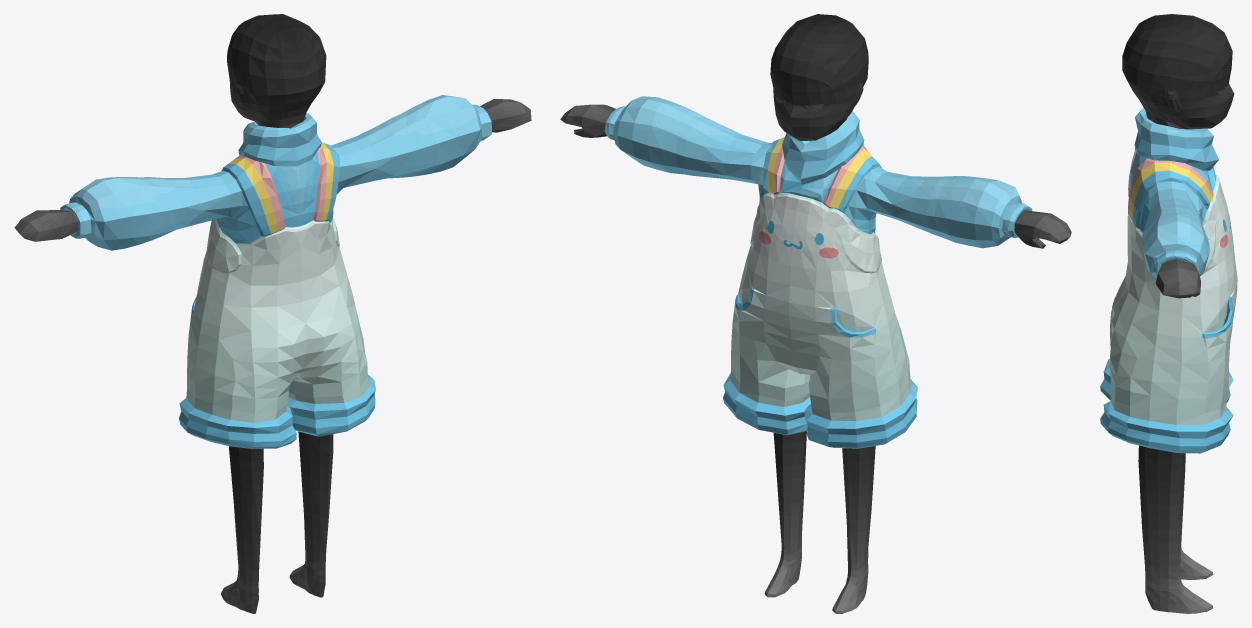
Rendered from CharSkyKid_Body_IvoryOveralls.glb.
3 renders of one model, left to right at view 1: azimuth 30°, elevation 25°; view 2: azimuth 150°, elevation 25°; view 3: azimuth 270°, elevation 25°, orthographic.
Visible parts, largest first — view 1: CharSkyKid_Body_IvoryOveralls; view 2: CharSkyKid_Body_IvoryOveralls; view 3: CharSkyKid_Body_IvoryOveralls.
Part boxes in pixels (bbox=[...]): CharSkyKid_Body_IvoryOveralls: bbox=[14, 14, 531, 613]; CharSkyKid_Body_IvoryOveralls: bbox=[560, 14, 1071, 613]; CharSkyKid_Body_IvoryOveralls: bbox=[1100, 14, 1237, 613].
Bounding box in the file's own units: 13.83 × 14.94 × 3.24.
Materials: 1 (1 with a texture image).
